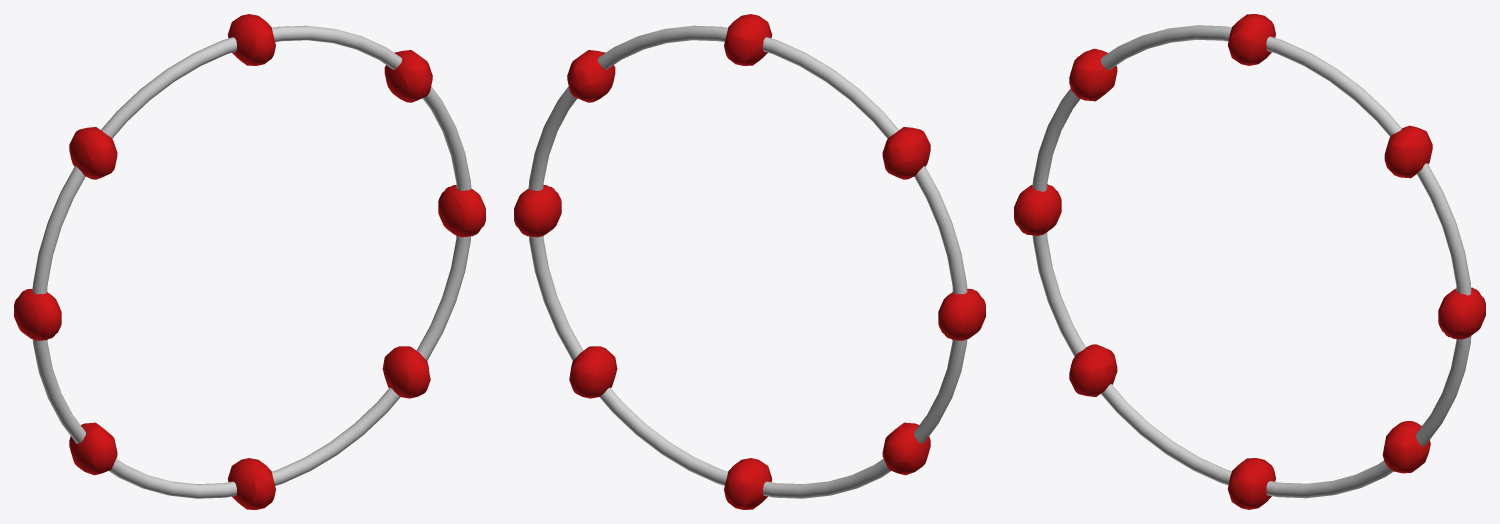
3 views of the same model, side by side, from view 1: azimuth 30°, elevation 25°; view 2: azimuth 150°, elevation 25°; view 3: azimuth 330°, elevation 25° (orthographic).
Parts seen in each view (by area): view 1: Ring_Torus, Electron_Mball, Electron.001_Mball.004; view 2: Ring_Torus, Electron_Mball, Electron.001_Mball.004; view 3: Ring_Torus, Electron_Mball, Electron.001_Mball.004.
Boxes of the visible parts, bbox=[...] form: Ring_Torus: bbox=[32, 25, 471, 498]; Electron_Mball: bbox=[14, 14, 485, 509]; Electron.001_Mball.004: bbox=[15, 186, 485, 340]; Ring_Torus: bbox=[528, 25, 967, 498]; Electron_Mball: bbox=[514, 14, 985, 509]; Electron.001_Mball.004: bbox=[514, 186, 984, 340]; Ring_Torus: bbox=[1032, 25, 1471, 498]; Electron_Mball: bbox=[1014, 14, 1484, 509]; Electron.001_Mball.004: bbox=[1014, 184, 1485, 339].
Size of the model in its own units: 2.15 by 2.19 by 0.25.
